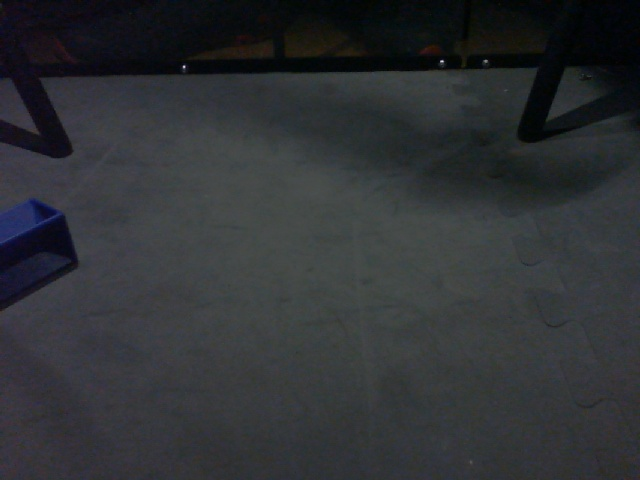BlueSample: (1, 196, 81, 305)
